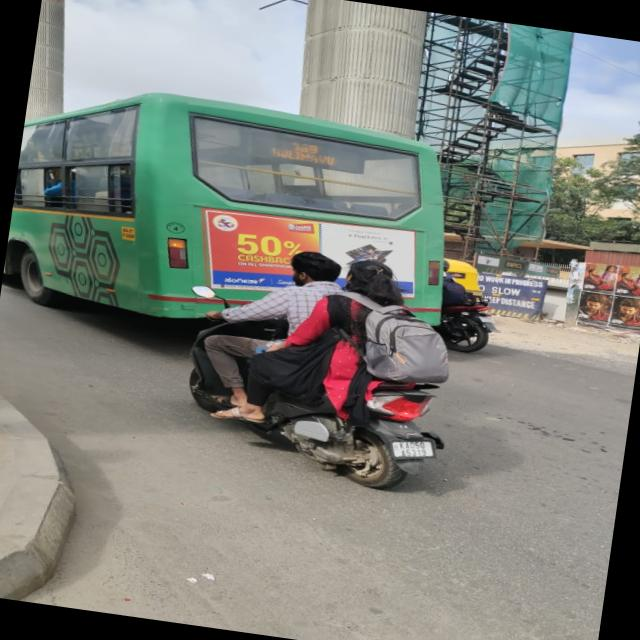bus: (0, 70, 478, 373)
display: (248, 132, 366, 172)
dnumber: (290, 141, 322, 155)
